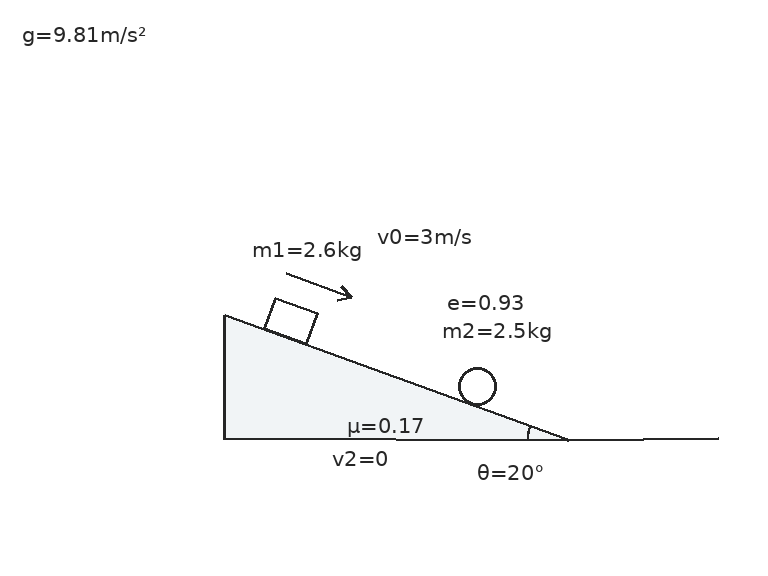ball: (456, 365, 498, 407)
block: (262, 296, 319, 346)
ramp: (222, 312, 570, 441)
